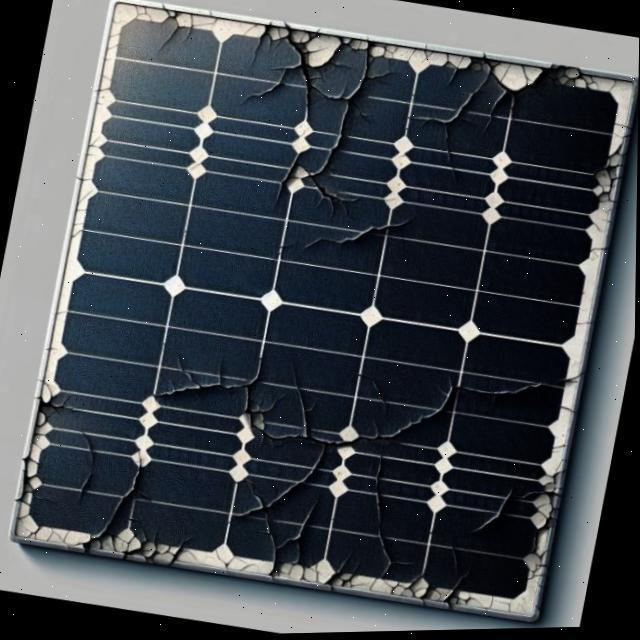Anomaly Solar Panel: (15, 0, 637, 620)
Structural Damage: (301, 380, 459, 457), (410, 45, 492, 138), (232, 452, 329, 526), (253, 364, 334, 452), (311, 37, 385, 111), (94, 449, 146, 543), (303, 105, 358, 182), (203, 355, 267, 402), (251, 481, 281, 573), (145, 353, 197, 400), (277, 497, 314, 553), (373, 451, 389, 556), (357, 369, 391, 416), (291, 37, 312, 109), (476, 491, 510, 535), (455, 381, 544, 396), (485, 69, 502, 137), (241, 389, 280, 417), (309, 181, 349, 204), (80, 433, 94, 495), (155, 7, 175, 50), (443, 128, 456, 185), (443, 576, 466, 603), (301, 232, 336, 249), (363, 219, 404, 233), (254, 76, 279, 97), (369, 57, 390, 82), (275, 58, 301, 78), (351, 96, 369, 120), (180, 14, 193, 44), (170, 539, 187, 561), (336, 233, 365, 244), (287, 151, 299, 177), (450, 544, 460, 574), (276, 177, 287, 198), (239, 90, 254, 104), (557, 375, 580, 384), (255, 28, 263, 46), (249, 45, 256, 63), (575, 320, 588, 329), (558, 407, 573, 414), (606, 83, 613, 93), (590, 250, 602, 253)
